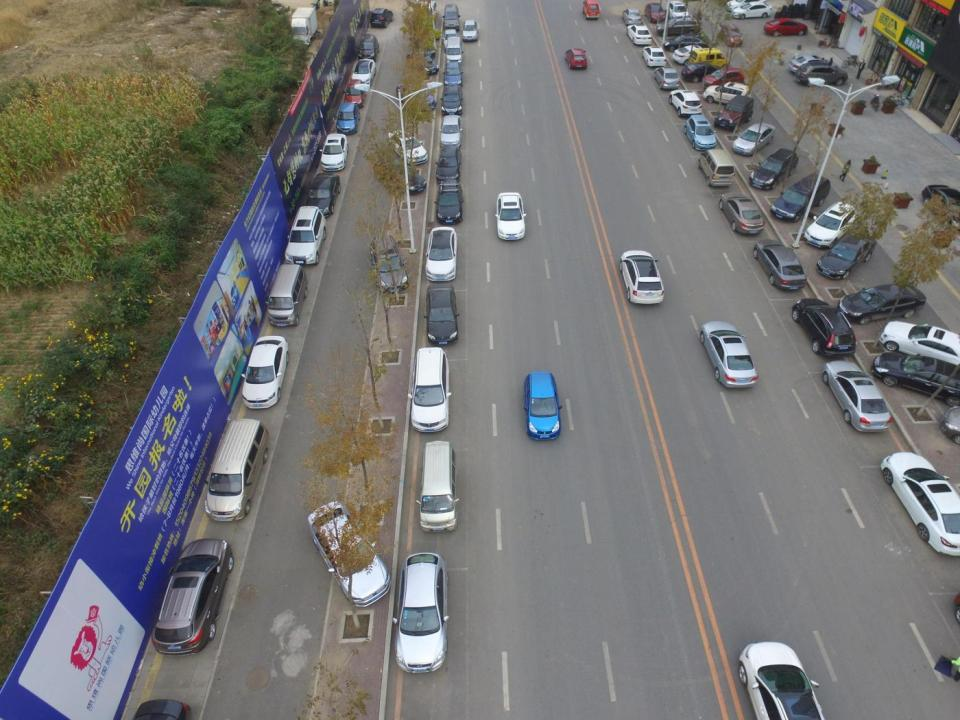car: (153, 534, 234, 656), (882, 450, 960, 560), (308, 503, 390, 606), (736, 641, 821, 720), (395, 552, 446, 674), (873, 349, 960, 408), (824, 358, 892, 433), (877, 319, 960, 369), (700, 321, 757, 390), (838, 279, 926, 323), (794, 298, 856, 359), (240, 335, 289, 409), (411, 346, 451, 434), (816, 231, 876, 280), (754, 239, 806, 291), (772, 173, 830, 219), (618, 250, 664, 306), (523, 373, 561, 440), (284, 208, 326, 267), (805, 202, 857, 248), (371, 236, 409, 294), (750, 148, 798, 190), (426, 283, 457, 348), (380, 154, 426, 197), (719, 193, 764, 235), (426, 225, 457, 282), (307, 171, 340, 216), (496, 191, 524, 244), (388, 130, 428, 167), (734, 121, 775, 157), (717, 95, 754, 131), (798, 62, 848, 88), (703, 82, 751, 108), (320, 132, 349, 175), (396, 82, 436, 113), (434, 144, 462, 184), (702, 66, 745, 92), (684, 114, 715, 149), (788, 55, 840, 75), (764, 18, 812, 38), (439, 113, 463, 148), (406, 52, 438, 78), (671, 89, 702, 115), (667, 35, 710, 53), (351, 57, 375, 88), (408, 34, 440, 57), (660, 20, 700, 38), (440, 84, 462, 116), (682, 63, 719, 82), (336, 103, 359, 133), (671, 46, 711, 63), (358, 34, 380, 63), (564, 47, 589, 72), (734, 3, 770, 20), (442, 60, 463, 88), (721, 23, 744, 48), (344, 80, 365, 107), (643, 46, 667, 69), (367, 7, 393, 28), (655, 66, 678, 89), (627, 24, 651, 46), (444, 4, 460, 31), (646, 2, 666, 23), (669, 2, 691, 21), (463, 18, 480, 42), (622, 9, 642, 26)
truck: (288, 8, 317, 53)
van: (204, 420, 265, 520), (416, 442, 458, 532), (266, 262, 309, 328), (700, 150, 737, 188), (688, 48, 730, 71), (582, 0, 600, 21)
